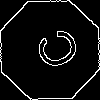C: (25, 25, 82, 77)
